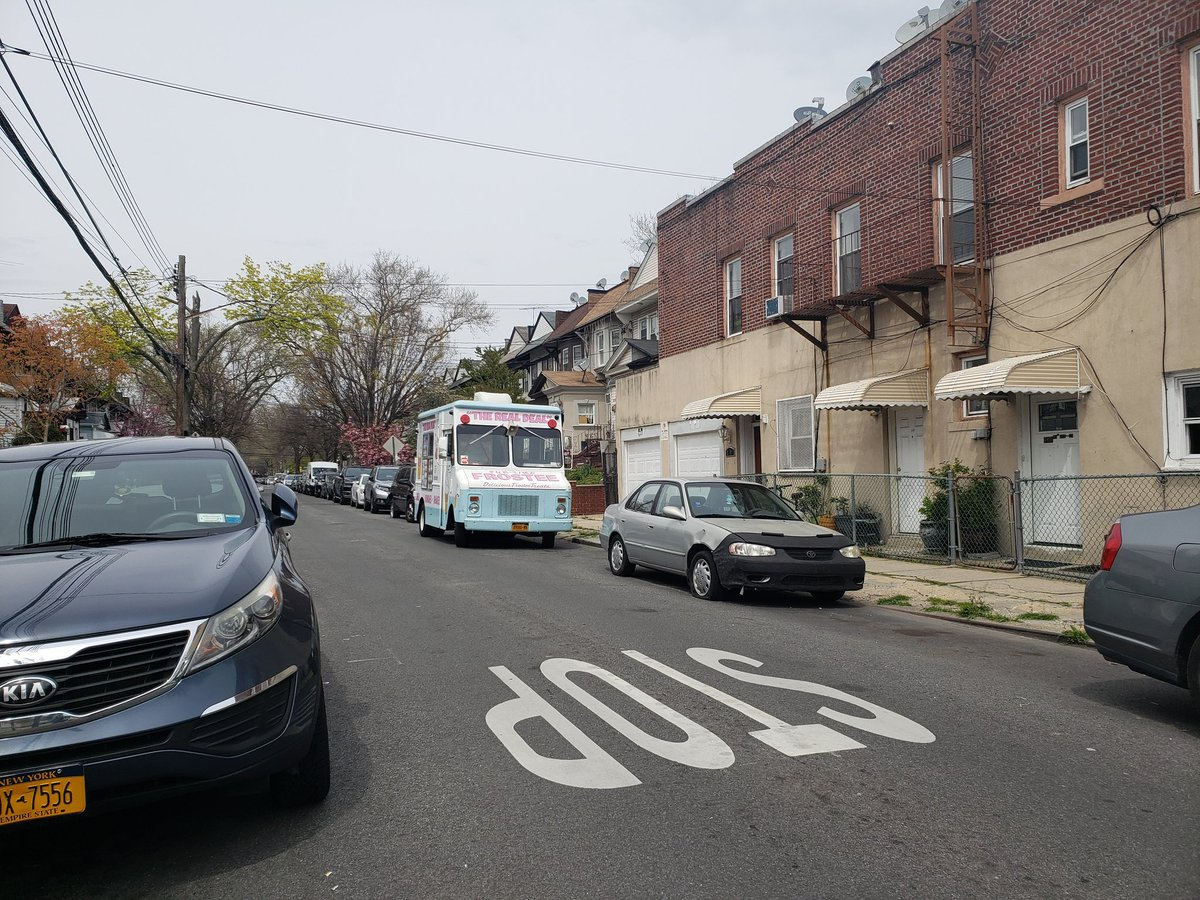building: (649, 1, 1200, 561)
car: (1, 413, 355, 839), (606, 461, 870, 617)
sky: (20, 1, 873, 310)
street: (65, 498, 1186, 884)
tree: (1, 270, 278, 473), (283, 269, 481, 478)
van: (409, 399, 588, 559)
